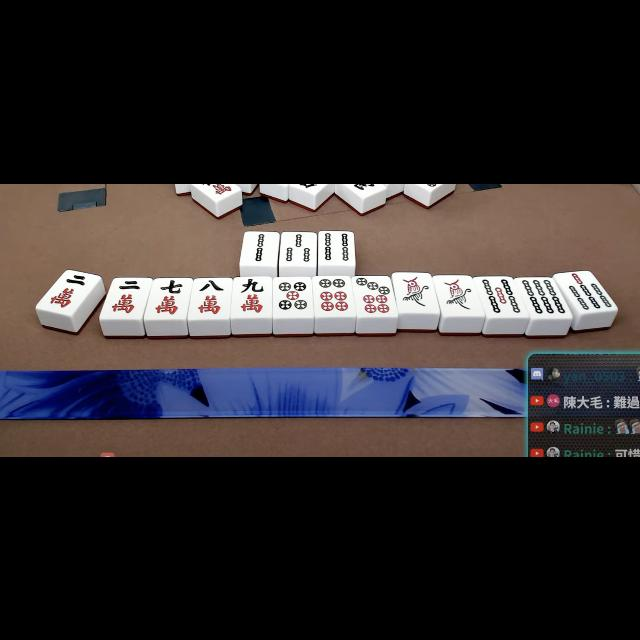b1: (438, 276, 477, 314), (396, 273, 434, 311)
b2: (243, 232, 277, 264)
b3: (279, 231, 315, 265)
b4: (319, 230, 355, 264)
b5: (482, 277, 520, 317)
b6: (522, 278, 564, 318)
b7: (566, 272, 612, 312)
c2: (45, 271, 91, 313), (105, 278, 147, 318)
c7: (148, 278, 190, 318)
c8: (191, 278, 231, 318)
c9: (232, 277, 272, 317)
d5: (274, 277, 312, 317)
d6: (314, 276, 354, 316)
d7: (354, 276, 394, 316)
